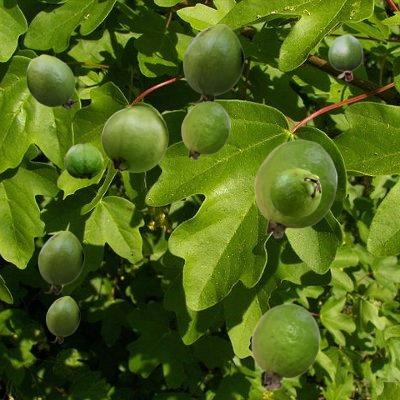guava: (254, 139, 336, 237), (251, 303, 319, 389), (183, 24, 243, 106), (101, 106, 167, 171), (38, 231, 83, 293), (181, 101, 229, 159), (26, 54, 77, 108), (270, 168, 320, 216), (328, 34, 362, 80), (46, 296, 79, 342), (64, 143, 102, 178)
